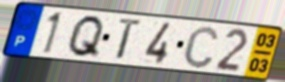1: (42, 12, 64, 56)
2: (214, 27, 252, 74)
4: (142, 21, 171, 66)
C: (181, 24, 221, 70)
Q: (65, 14, 107, 60)
T: (114, 16, 144, 62)
